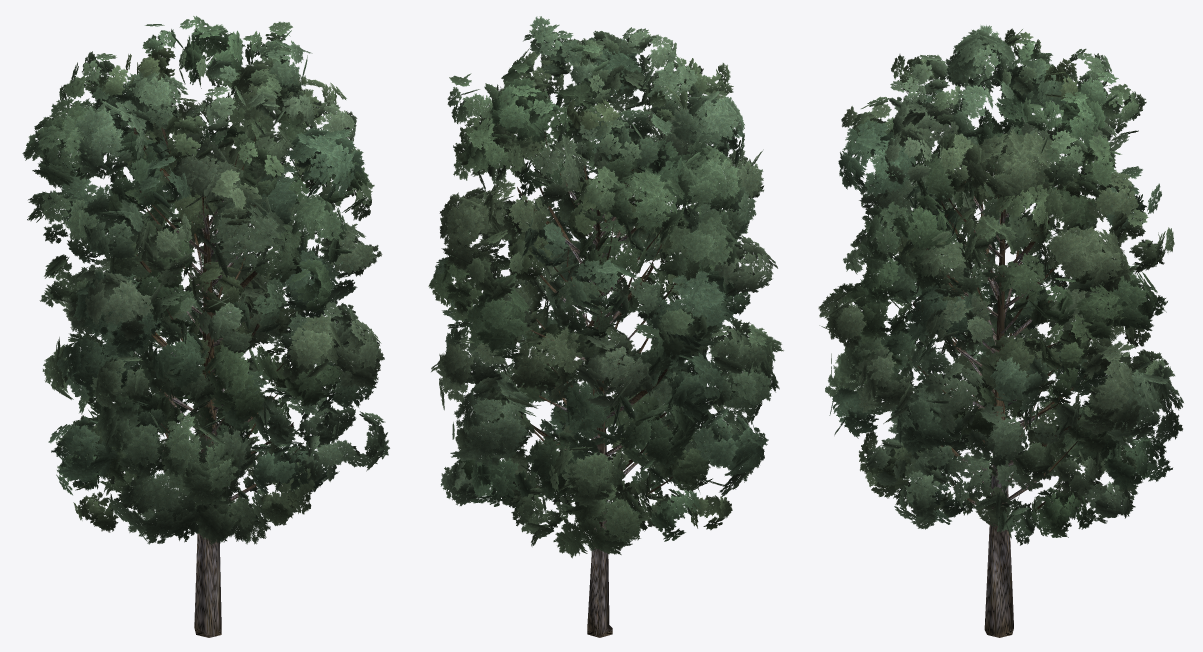
The model's file is mm6_deco_tree18.glb.
3 renders of one model, left to right at view 1: azimuth 30°, elevation 25°; view 2: azimuth 150°, elevation 25°; view 3: azimuth 270°, elevation 25°, orthographic. The views are drawn at different scales.
Parts seen in each view (by area): view 1: Tree; view 2: Tree; view 3: Tree.
Part boxes in pixels (bbox=[...]): Tree: bbox=[22, 16, 389, 637]; Tree: bbox=[428, 16, 783, 637]; Tree: bbox=[818, 25, 1183, 637].
Bounding box in the file's own units: 1.76 × 3 × 1.71.
2 materials, 2 textured.
